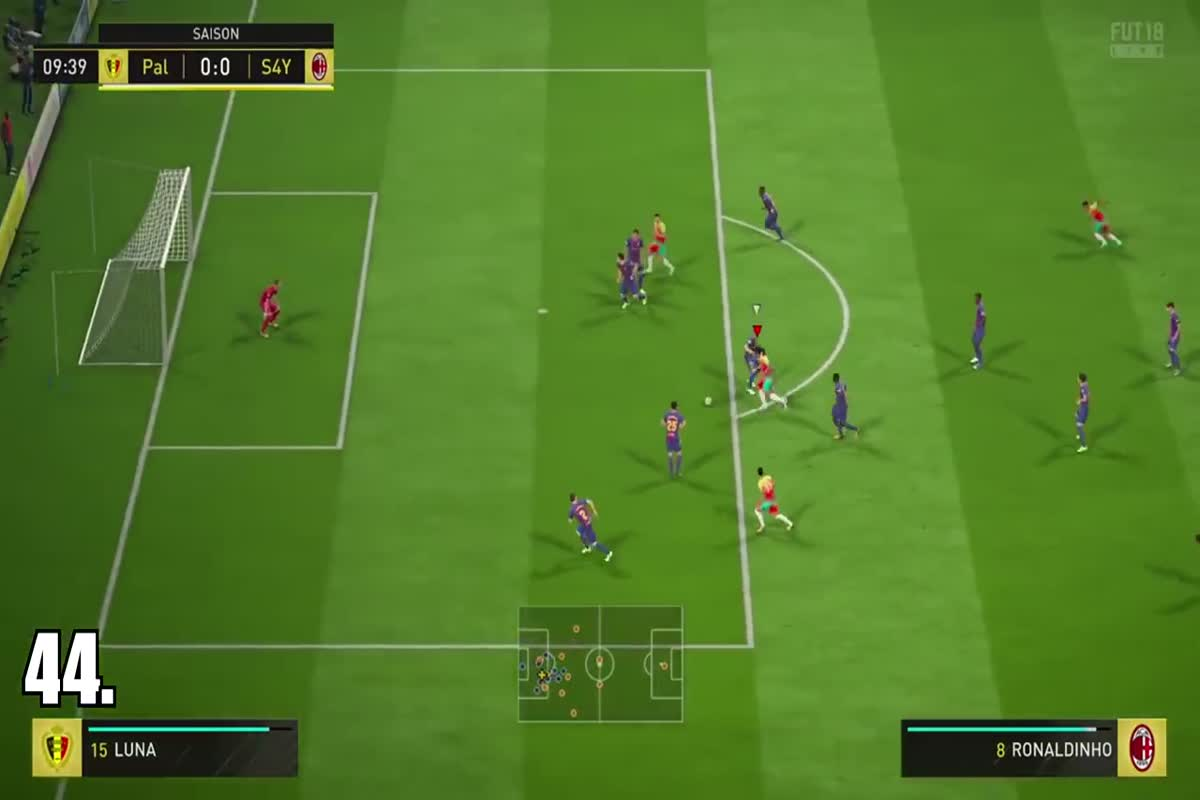ball: (695, 390, 727, 415)
